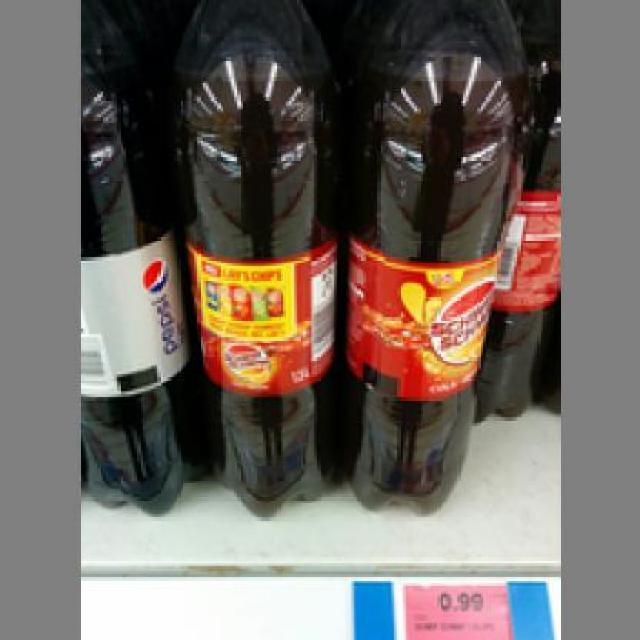Soda: (336, 0, 529, 515), (160, 0, 344, 515), (77, 0, 203, 515)
